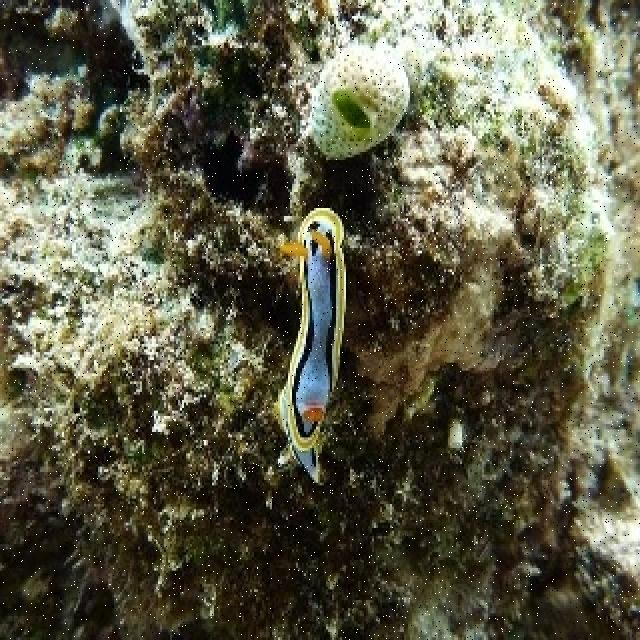reefs: (272, 207, 349, 489), (307, 42, 412, 165)
